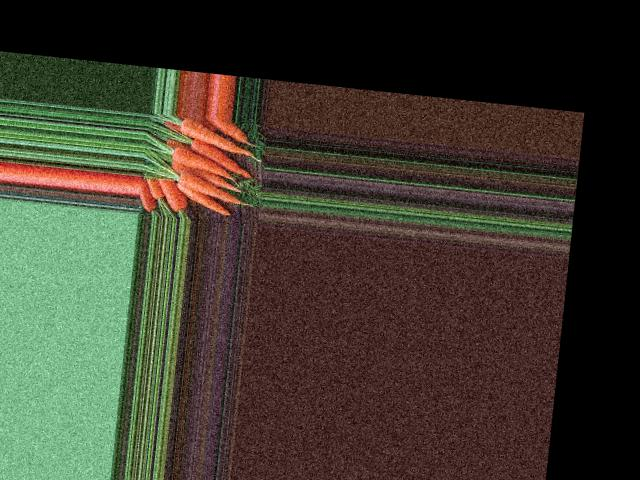carrot: (171, 116, 262, 151)
